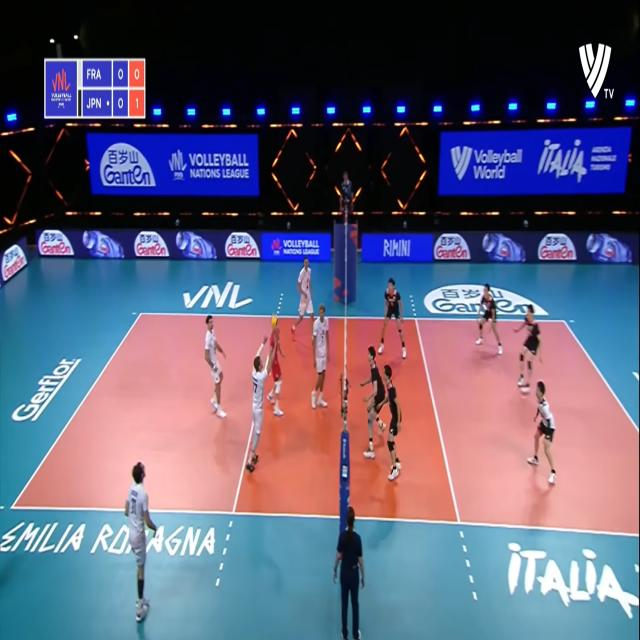player: (128, 458, 166, 625), (530, 374, 560, 494), (202, 313, 232, 422), (361, 344, 386, 464), (474, 274, 506, 367), (382, 368, 406, 483), (309, 300, 334, 408), (249, 344, 269, 477), (382, 276, 410, 360), (294, 255, 322, 335), (517, 300, 540, 392)
